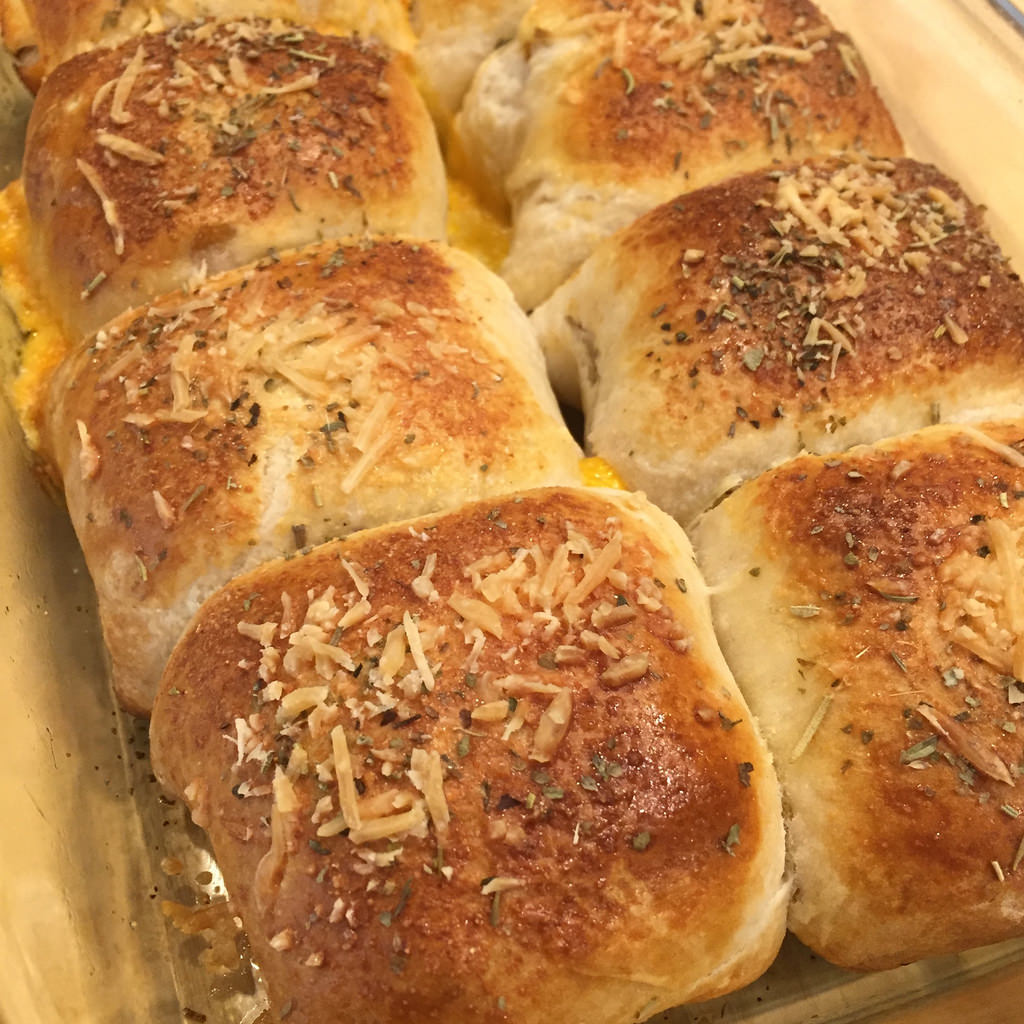slice of bread: (93, 91, 965, 899)
